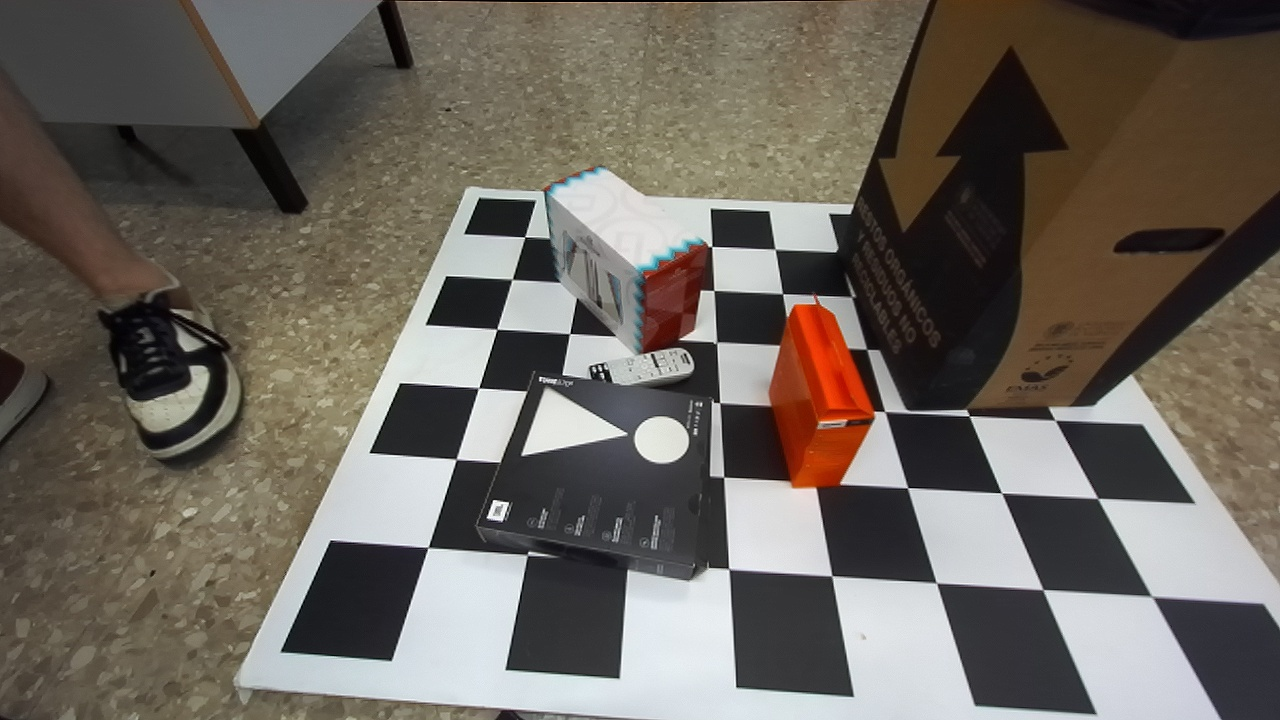caja_busbar: (545, 167, 709, 352)
caja_chasis: (474, 371, 711, 579)
caja_manguera: (769, 301, 874, 486)
